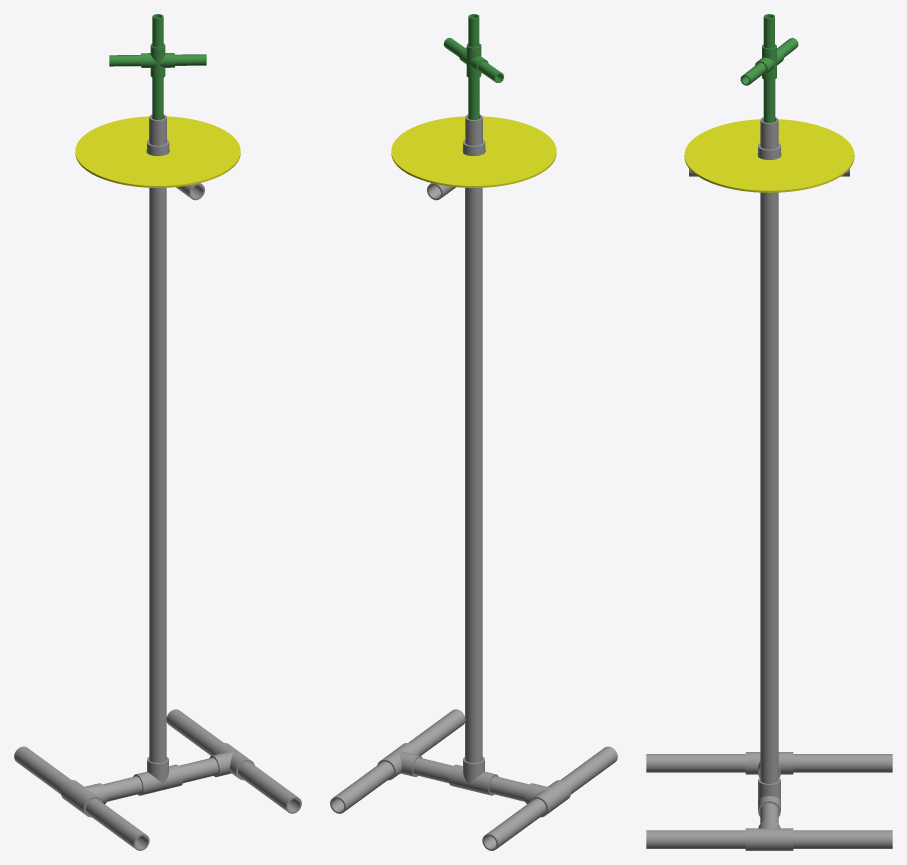
The model's file is Curcifix_task.obj.
3 views of the same model, side by side, from view 1: azimuth 30°, elevation 25°; view 2: azimuth 150°, elevation 25°; view 3: azimuth 270°, elevation 25° (orthographic). The views are drawn at different scales.
Parts seen in each view (by area): view 1: Solid1:9, Solid1:14, Solid1:1, Solid1:3, Solid1:6, Solid1:4, Solid1:2, Solid1, Solid1:5, Solid1:16, Solid1:8, Solid1:7; view 2: Solid1:9, Solid1:14, Solid1:2, Solid1:4, Solid1:6, Solid1:1, Solid1:3, Solid1, Solid1:5, Solid1:7, Solid1:8, Solid1:16; view 3: Solid1:9, Solid1:14, Solid1:1, Solid1:2, Solid1:3, Solid1:4, Solid1:5, Solid1, Solid1:6, Solid1:16, Solid1:15, Solid1:13.
Part boxes in pixels (box(x1,y1,x2,y2)): Solid1:9: box(149, 188, 166, 762); Solid1:14: box(75, 116, 240, 187); Solid1:1: box(85, 798, 149, 850); Solid1:3: box(238, 761, 301, 813); Solid1:6: box(133, 757, 183, 795); Solid1:4: box(166, 709, 223, 755); Solid1:2: box(14, 746, 71, 794); Solid1: box(60, 780, 107, 817); Solid1:5: box(209, 743, 254, 780); Solid1:16: box(141, 43, 174, 78); Solid1:8: box(179, 757, 218, 783); Solid1:7: box(102, 776, 142, 801); Solid1:9: box(465, 188, 482, 762); Solid1:14: box(391, 116, 556, 187); Solid1:2: box(482, 798, 546, 850); Solid1:4: box(330, 761, 393, 813); Solid1:6: box(448, 757, 498, 795); Solid1:1: box(560, 746, 617, 794); Solid1:3: box(408, 709, 464, 755); Solid1: box(524, 780, 571, 817); Solid1:5: box(377, 743, 422, 780); Solid1:7: box(489, 776, 529, 801); Solid1:8: box(413, 757, 452, 783); Solid1:16: box(459, 43, 488, 78); Solid1:9: box(760, 192, 778, 783); Solid1:14: box(684, 119, 854, 192); Solid1:1: box(646, 754, 745, 772); Solid1:2: box(793, 754, 892, 772); Solid1:3: box(646, 830, 745, 848); Solid1:4: box(793, 830, 892, 848); Solid1:5: box(745, 819, 793, 850); Solid1: box(745, 752, 793, 777); Solid1:6: box(758, 777, 780, 816); Solid1:16: box(755, 44, 784, 80); Solid1:15: box(763, 79, 775, 122); Solid1:13: box(760, 117, 778, 149).
Size of the model in its own units: 14.35 by 61.93 by 17.38.
